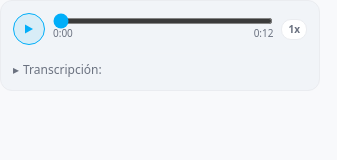
Test: VoiceMessagePlayer › test_no_transcription_fallback_text — shows fallback when confidence < 0.5
Click to open transcript
Click the button "▸ Transcripción:". click: [57, 70]
box: [13,62,102,78]
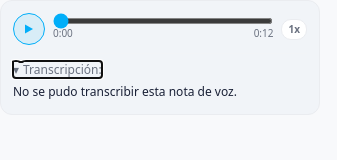
Result: the text "No se pudo transcribir esta nota de voz." is shown at [13,83,237,100]
